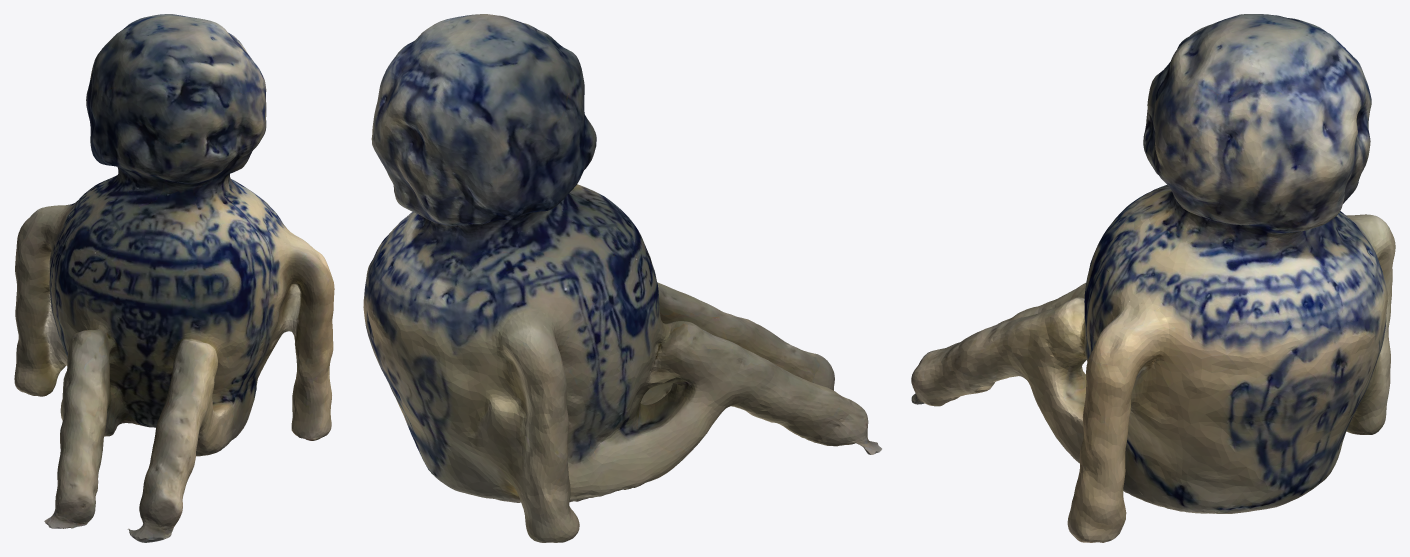
File: friend-mobile.glb
3 renders of one model, left to right at view 1: azimuth 30°, elevation 25°; view 2: azimuth 150°, elevation 25°; view 3: azimuth 270°, elevation 25°, orthographic. The views are drawn at different scales.
Bounding box in the file's own units: 0.18 × 0.2002 × 0.1862.
1 material, 1 textured.
